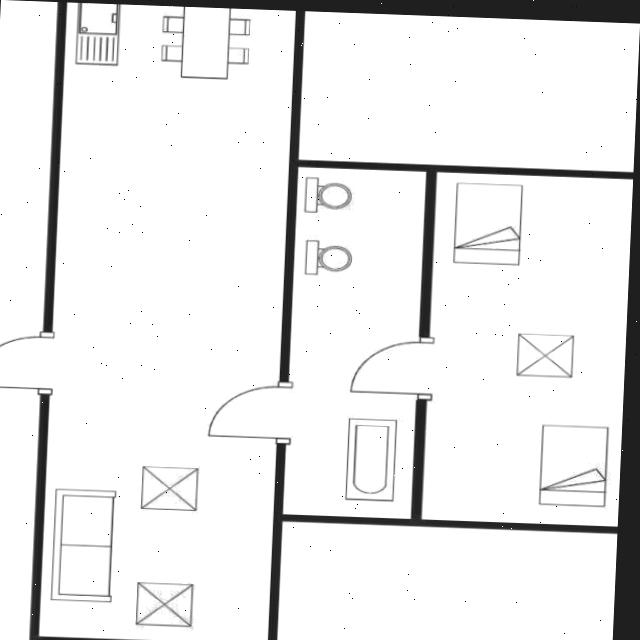room: (39, 1, 295, 640), (420, 171, 633, 528), (282, 167, 425, 520)
